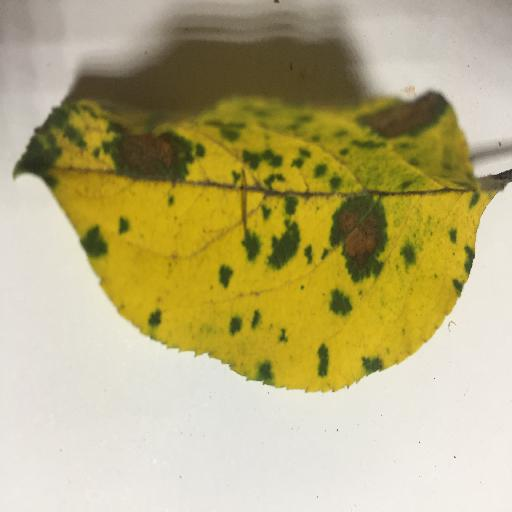Brown_Spot: (208, 267, 295, 387), (34, 119, 180, 178), (230, 154, 311, 260), (329, 205, 391, 264), (67, 206, 133, 260), (361, 93, 439, 125)
